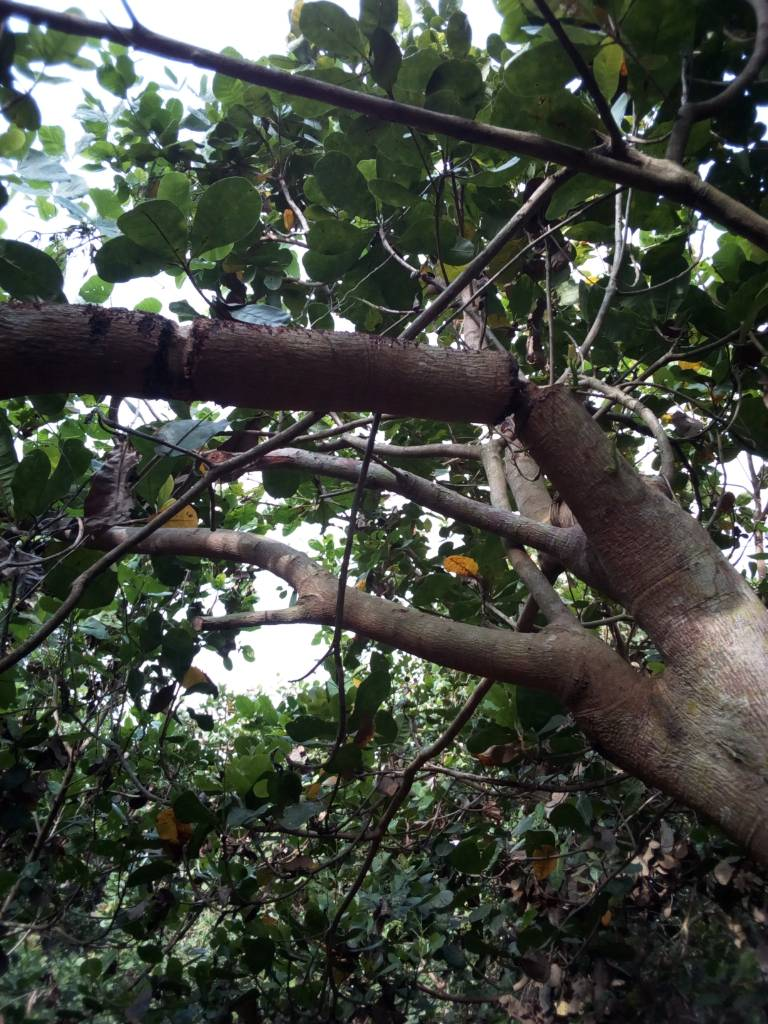Analepse trifasciata: (475, 333, 594, 436)
